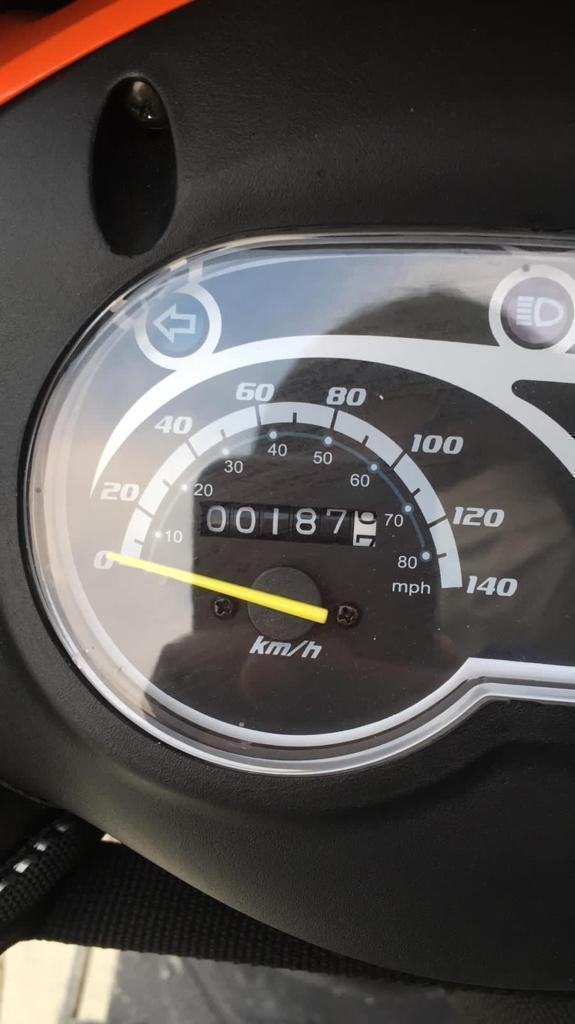0: (234, 505, 257, 535), (205, 502, 227, 532)
1: (267, 504, 282, 537)
6: (354, 506, 379, 524)
7: (323, 504, 348, 536), (353, 531, 379, 549)
8: (292, 504, 318, 537)
odometer: (190, 496, 382, 550)
